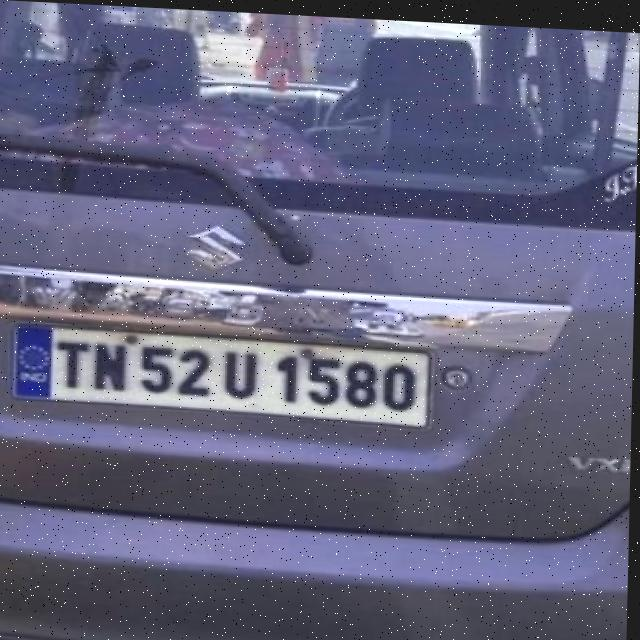plate: (9, 318, 437, 425)
